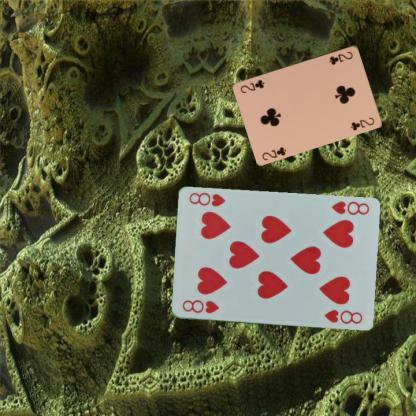2c: (259, 144, 288, 161), (327, 48, 354, 66)
8h: (329, 198, 370, 216), (180, 297, 220, 315)
